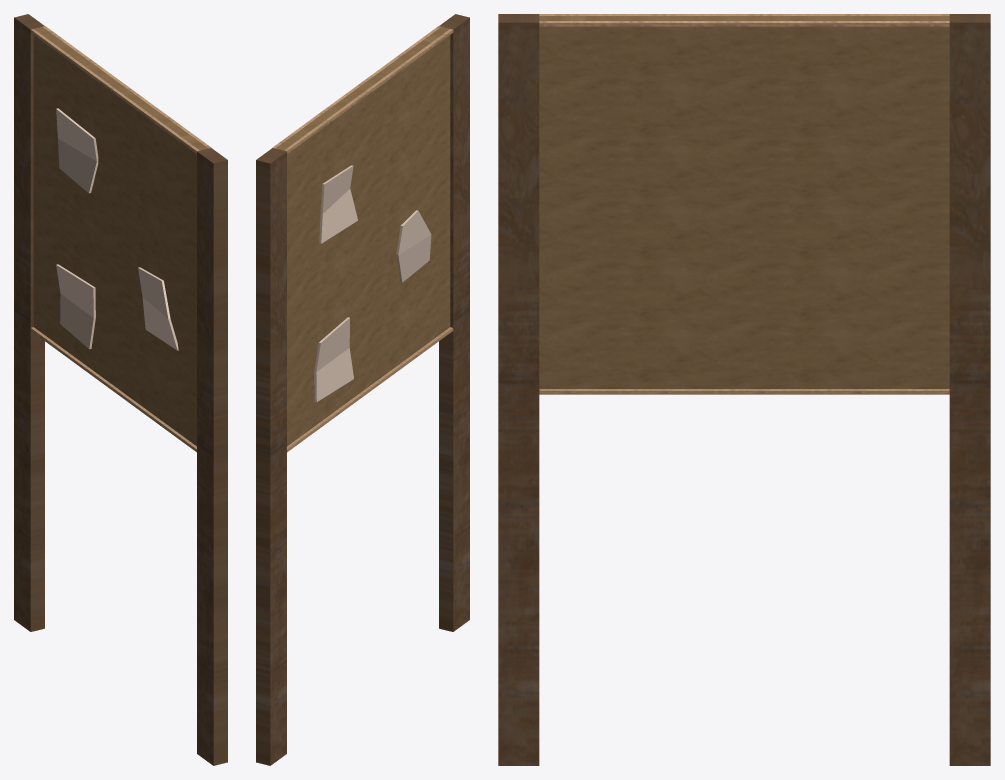
File: QuadroAvisos.fbx
The picture shows the model from 3 angles, left to right: view 1: azimuth 30°, elevation 25°; view 2: azimuth 150°, elevation 25°; view 3: azimuth 270°, elevation 25°; orthographic projection. The views are drawn at different scales.
Parts seen in each view (by area): view 1: QuadroDeAvisos; view 2: QuadroDeAvisos; view 3: QuadroDeAvisos.
Boxes of the visible parts, x1,y1,x2,y2 form: QuadroDeAvisos: (14, 14, 227, 765); QuadroDeAvisos: (256, 14, 469, 765); QuadroDeAvisos: (498, 14, 990, 765).
Bounding box in the file's own units: 7.37 × 200 × 120.
4 materials, 4 textured.
